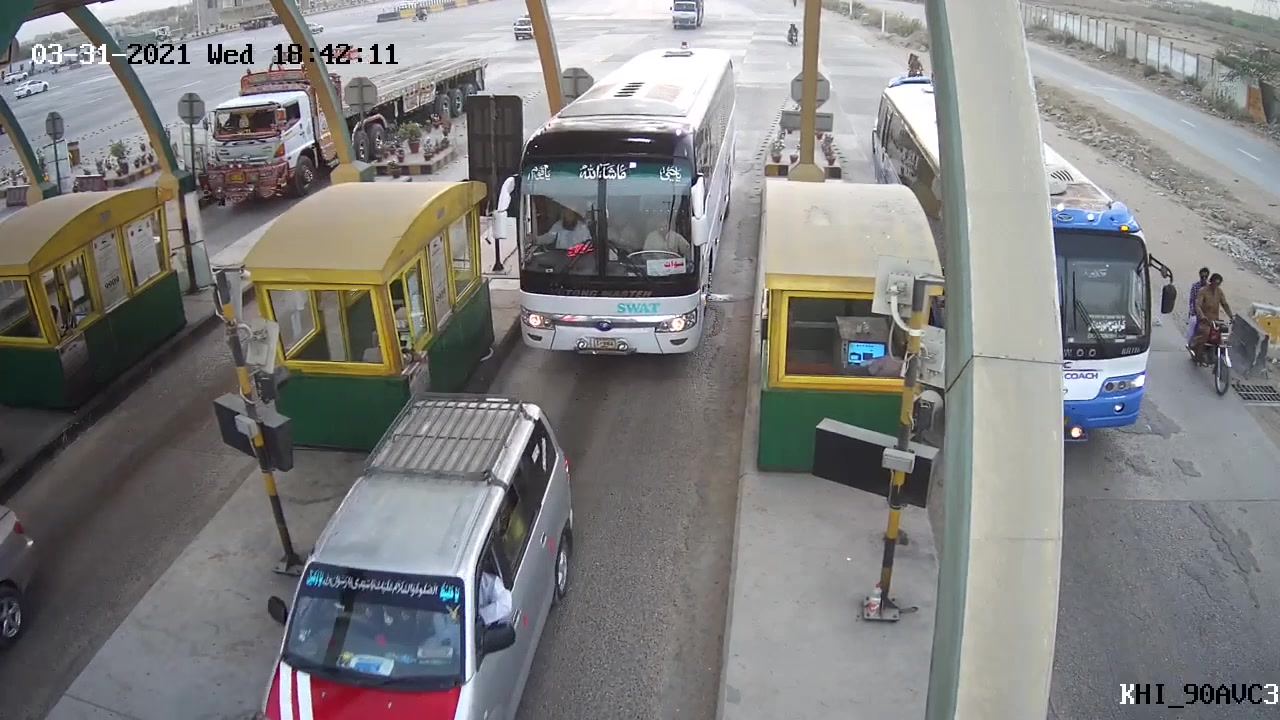F4: (489, 105, 736, 363)
